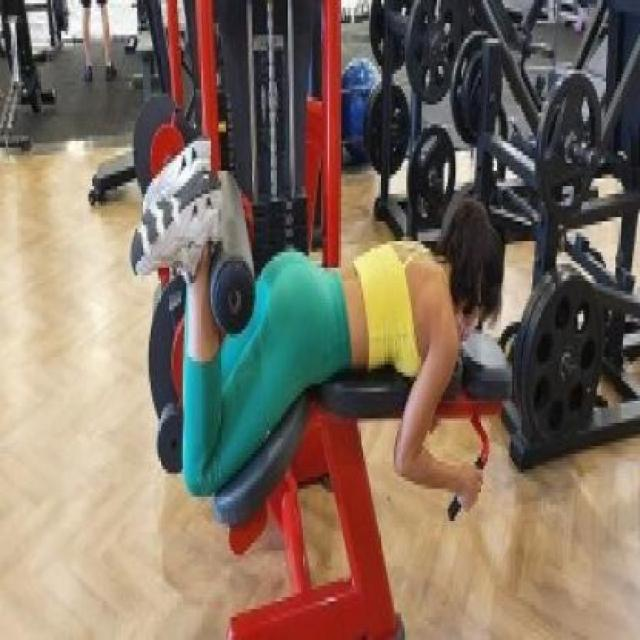reg curl machine: (123, 0, 515, 640)
